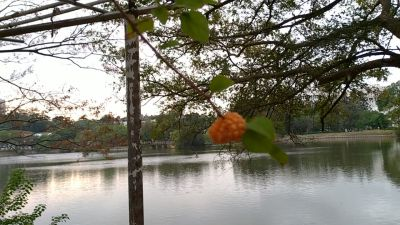eggs: (208, 109, 249, 145)
